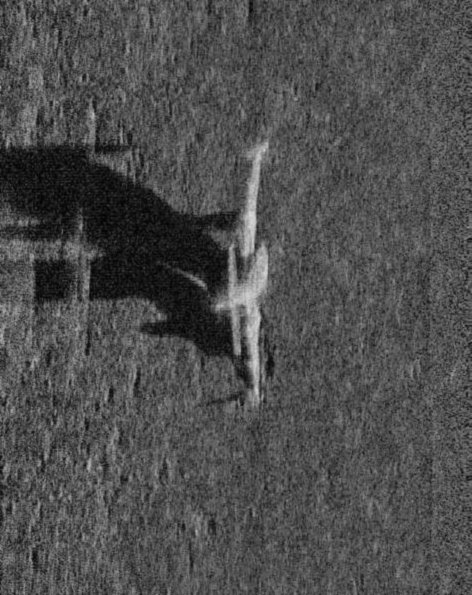plane: (210, 143, 285, 407)
